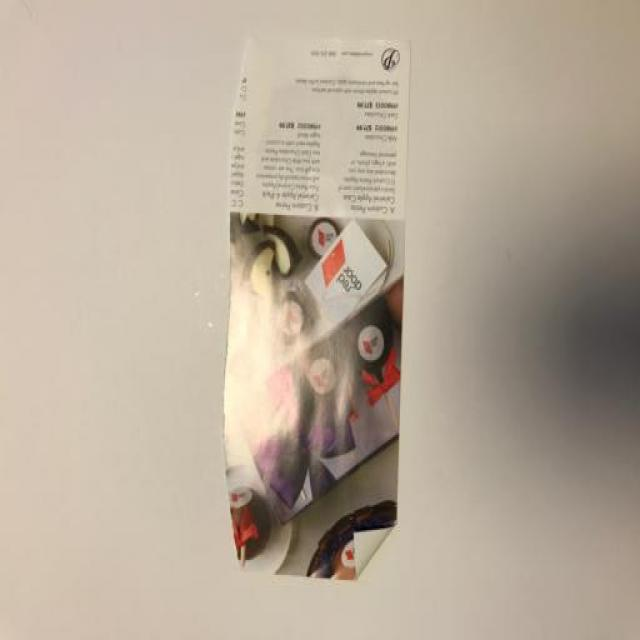paper: (224, 25, 422, 599)
